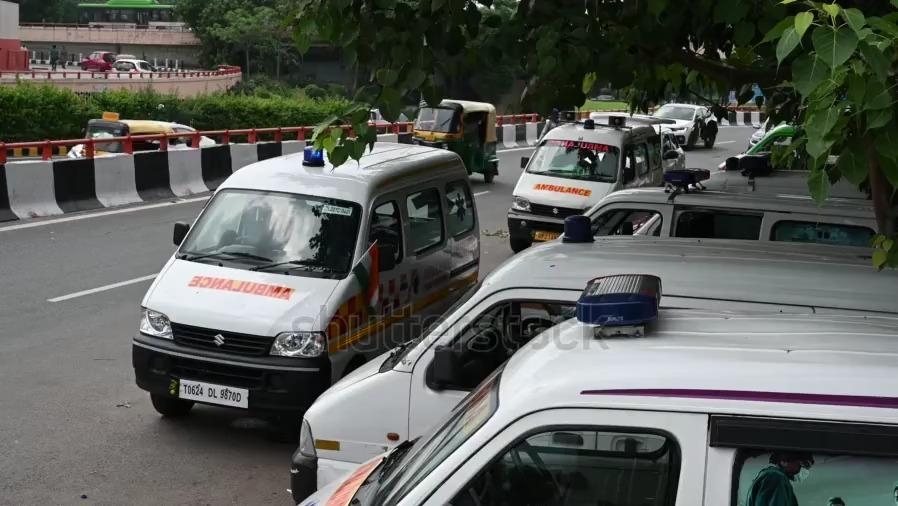Ambulance: (181, 269, 303, 306)
